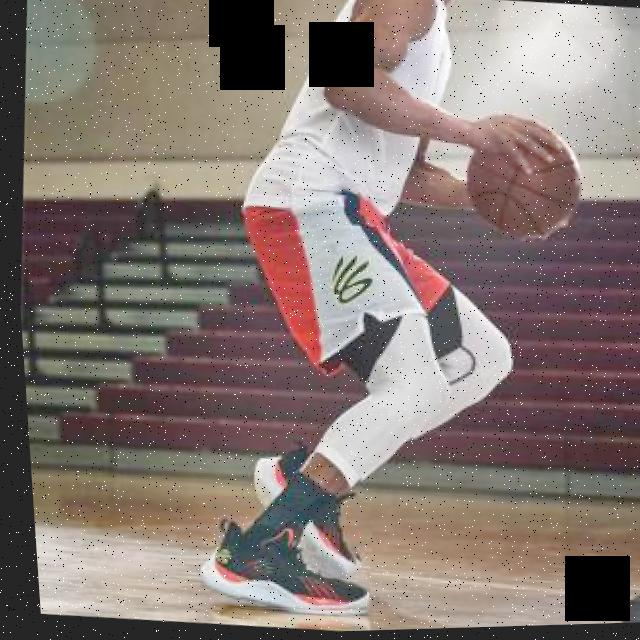shoe: (186, 511, 369, 623), (237, 437, 364, 585)
